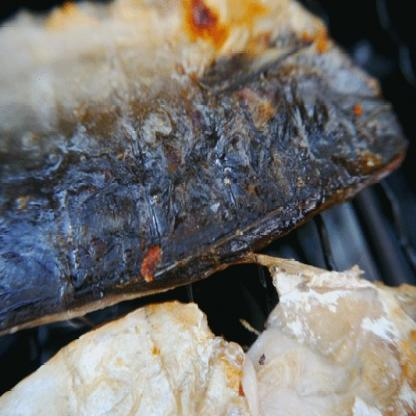Peixe: (0, 0, 416, 408)
